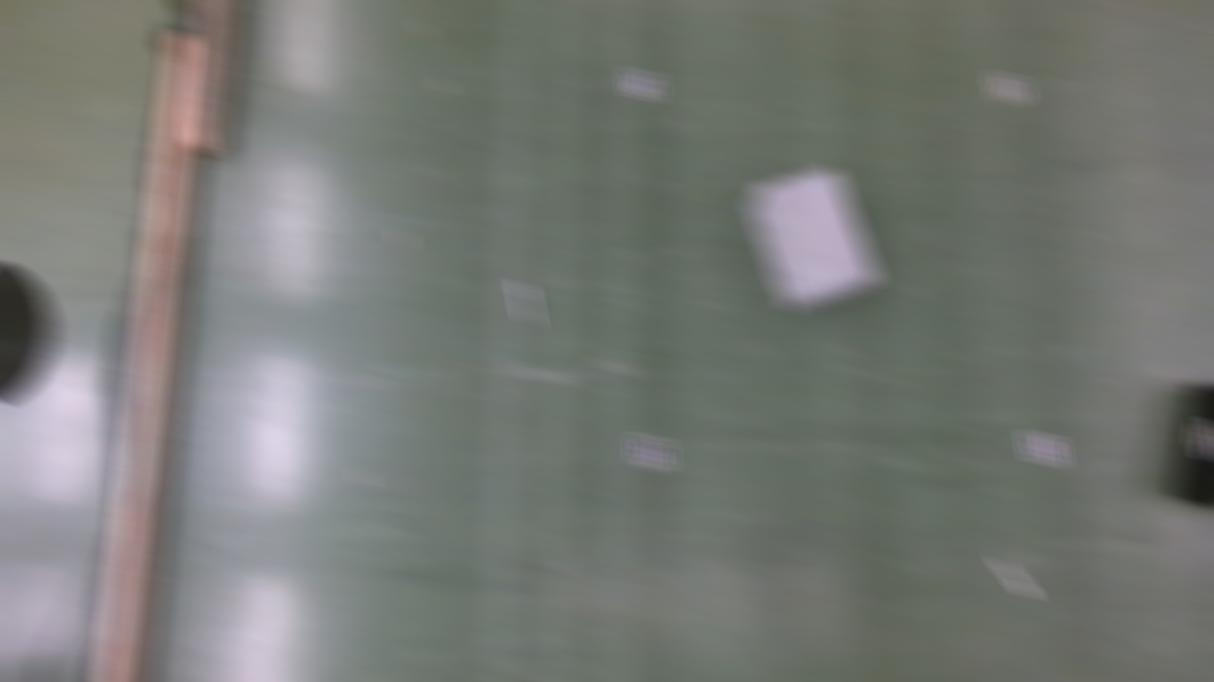probes: (994, 556, 1033, 600), (514, 282, 535, 328)
rako: (748, 166, 880, 317), (1172, 382, 1214, 520)
